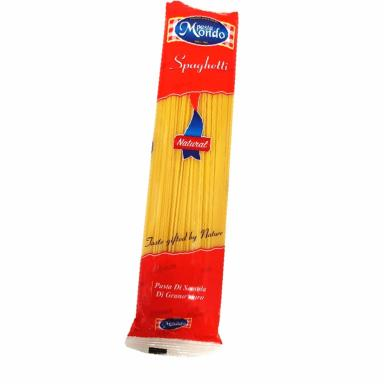pasta package: (126, 2, 237, 355)
